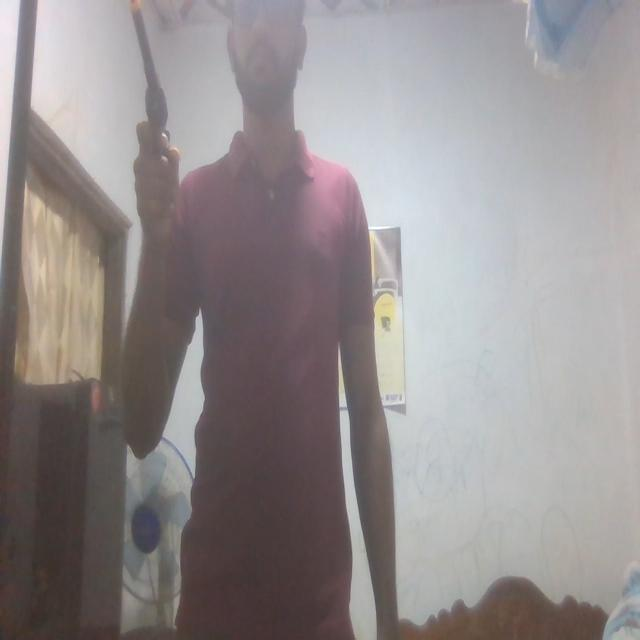Gun_Holder: (125, 0, 193, 201)
Person: (125, 0, 393, 640)
